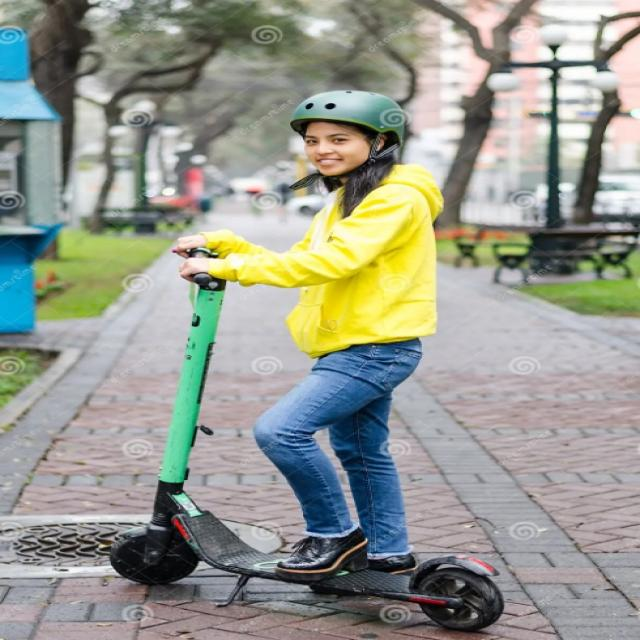helmet: (64, 63, 530, 627)
